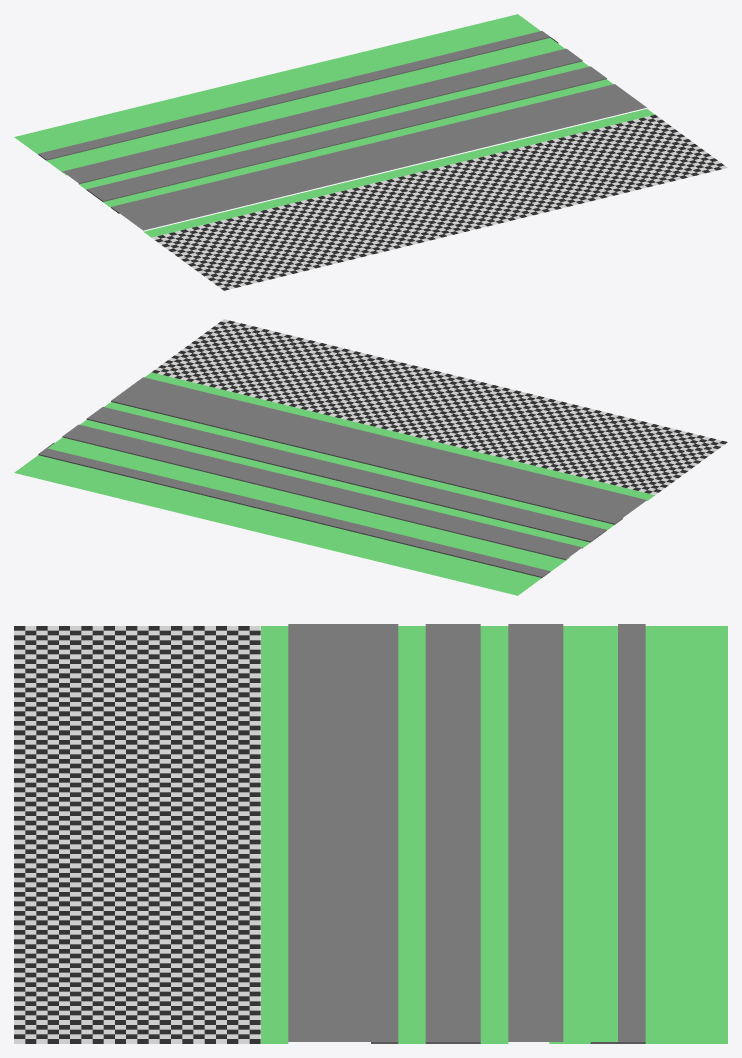
Rendered from Map3.fbx.
3 renders of one model, top to bottom at view 1: azimuth 30°, elevation 25°; view 2: azimuth 150°, elevation 25°; view 3: azimuth 270°, elevation 25°, orthographic. The views are drawn at different scales.
Parts seen in each view (by area): view 1: Level1.002; view 2: Level1.002; view 3: Level1.002.
Boxes of the visible parts, x1,y1,x2,y2 form: Level1.002: [14, 14, 727, 290]; Level1.002: [14, 319, 727, 595]; Level1.002: [14, 624, 727, 1043].
Size of the model in its own units: 2400 by 5 by 1733.
